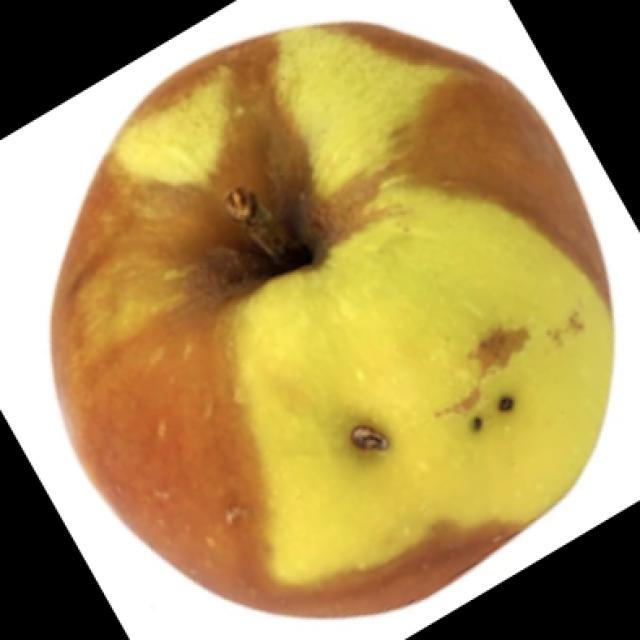Rotten: (52, 23, 598, 632)
